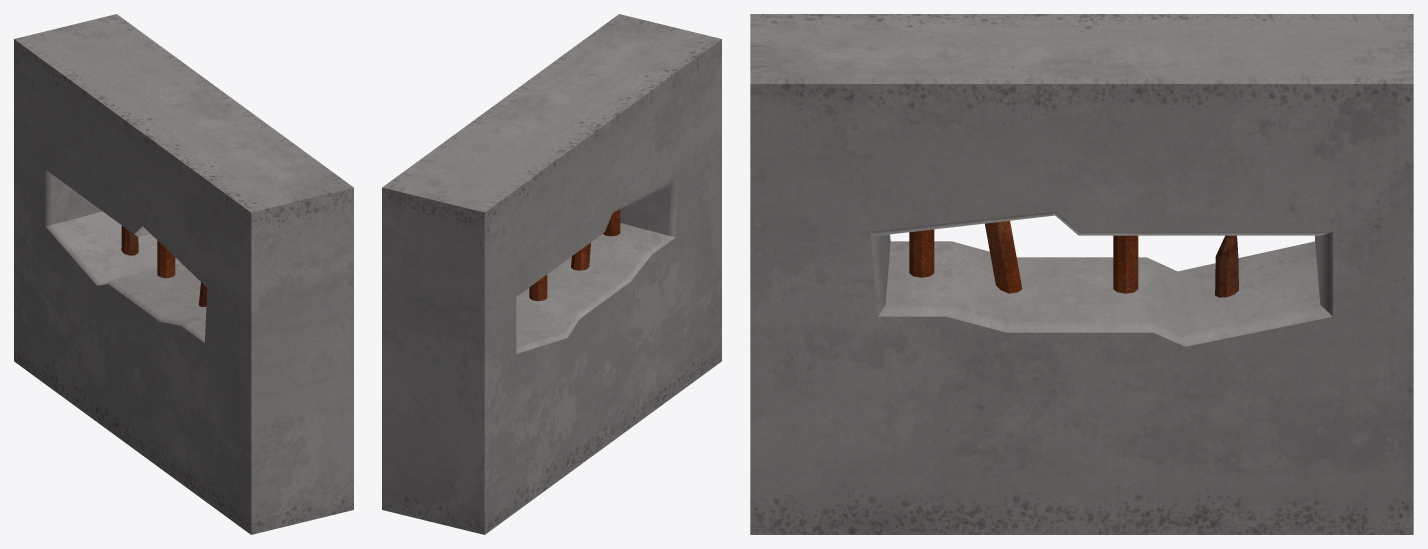
The model's file is Window B.fbx.
3 renders of one model, left to right at view 1: azimuth 30°, elevation 25°; view 2: azimuth 150°, elevation 25°; view 3: azimuth 270°, elevation 25°, orthographic. The views are drawn at different scales.
Parts seen in each view (by area): view 1: Wall_Window_4x1_B4, Bar5; view 2: Wall_Window_4x1_B4, Bar5; view 3: Wall_Window_4x1_B4, Bar5.
Part boxes in pixels (<box>): Wall_Window_4x1_B4: <box>14,14,353,534</box>; Bar5: <box>121,226,207,306</box>; Wall_Window_4x1_B4: <box>382,14,721,534</box>; Bar5: <box>529,209,620,301</box>; Wall_Window_4x1_B4: <box>750,14,1413,534</box>; Bar5: <box>909,220,1238,297</box>.
Size of the model in its own units: 1 by 3 by 4.
